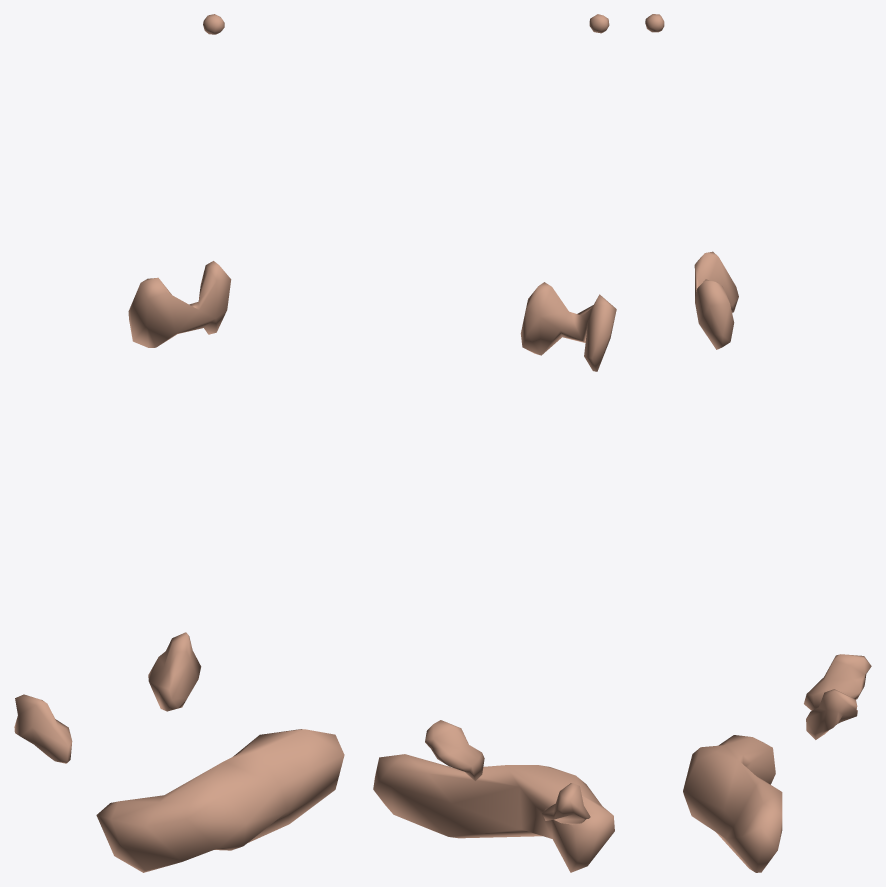
File: pediatric_child_10y_male.endocrine.LOD3.glb
The picture shows the model from 3 angles, left to right: view 1: azimuth 30°, elevation 25°; view 2: azimuth 150°, elevation 25°; view 3: azimuth 270°, elevation 25°; orthographic projection. The views are drawn at different scales.
Parts seen in each view (by area): view 1: PEDIATRIC.CHILD_10Y.MALE.ENDOCRINE.PANCREAS, PEDIATRIC.CHILD_10Y.MALE.ENDOCRINE.THYROID, PEDIATRIC.CHILD_10Y.MALE.ENDOCRINE.ADRENAL.L, PEDIATRIC.CHILD_10Y.MALE.ENDOCRINE.ADRENAL.R; view 2: PEDIATRIC.CHILD_10Y.MALE.ENDOCRINE.PANCREAS, PEDIATRIC.CHILD_10Y.MALE.ENDOCRINE.THYROID, PEDIATRIC.CHILD_10Y.MALE.ENDOCRINE.ADRENAL.L, PEDIATRIC.CHILD_10Y.MALE.ENDOCRINE.ADRENAL.R; view 3: PEDIATRIC.CHILD_10Y.MALE.ENDOCRINE.PANCREAS, PEDIATRIC.CHILD_10Y.MALE.ENDOCRINE.THYROID, PEDIATRIC.CHILD_10Y.MALE.ENDOCRINE.ADRENAL.R, PEDIATRIC.CHILD_10Y.MALE.ENDOCRINE.ADRENAL.L.
Boxes of the visible parts, box(x1,y1,x2,y2) form: PEDIATRIC.CHILD_10Y.MALE.ENDOCRINE.PANCREAS: box(96, 729, 344, 872); PEDIATRIC.CHILD_10Y.MALE.ENDOCRINE.THYROID: box(128, 261, 231, 347); PEDIATRIC.CHILD_10Y.MALE.ENDOCRINE.ADRENAL.L: box(148, 632, 201, 711); PEDIATRIC.CHILD_10Y.MALE.ENDOCRINE.ADRENAL.R: box(14, 694, 72, 763); PEDIATRIC.CHILD_10Y.MALE.ENDOCRINE.PANCREAS: box(373, 754, 614, 872); PEDIATRIC.CHILD_10Y.MALE.ENDOCRINE.THYROID: box(520, 282, 616, 371); PEDIATRIC.CHILD_10Y.MALE.ENDOCRINE.ADRENAL.L: box(425, 720, 484, 780); PEDIATRIC.CHILD_10Y.MALE.ENDOCRINE.ADRENAL.R: box(542, 783, 590, 824); PEDIATRIC.CHILD_10Y.MALE.ENDOCRINE.PANCREAS: box(683, 735, 782, 872); PEDIATRIC.CHILD_10Y.MALE.ENDOCRINE.THYROID: box(694, 251, 738, 349); PEDIATRIC.CHILD_10Y.MALE.ENDOCRINE.ADRENAL.R: box(804, 654, 871, 710); PEDIATRIC.CHILD_10Y.MALE.ENDOCRINE.ADRENAL.L: box(806, 689, 857, 739).
Size of the model in its own units: 0.1337 by 0.4032 by 0.1037.
